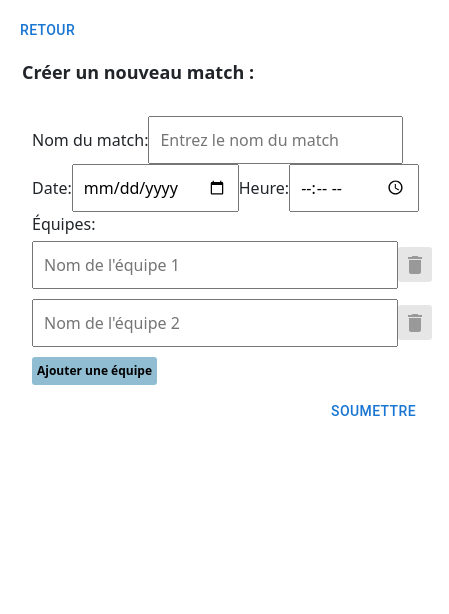
NewGame Component › Soumet le formulaire avec le champ date invalide (date dans le passé)
The width and height of the screenshot is (449, 614).
Type "Test Game" into the field labelled "Nom du match:" at [276, 140], box [148,116,403,164]
Type "2022-01-01" into the date field labelled "Date:" at [155, 188], box [72,164,239,212]
Type "12:00" into the time field labelled "Heure:" at [354, 188], box [289,164,419,212]
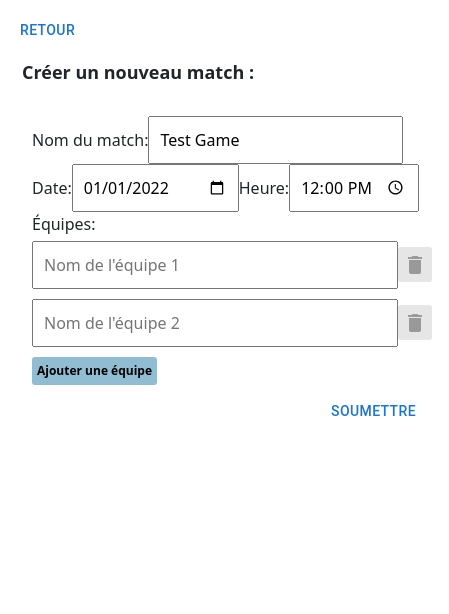
Click the button "Ajouter une équipe" at [94, 370], box [32,356,157,384]
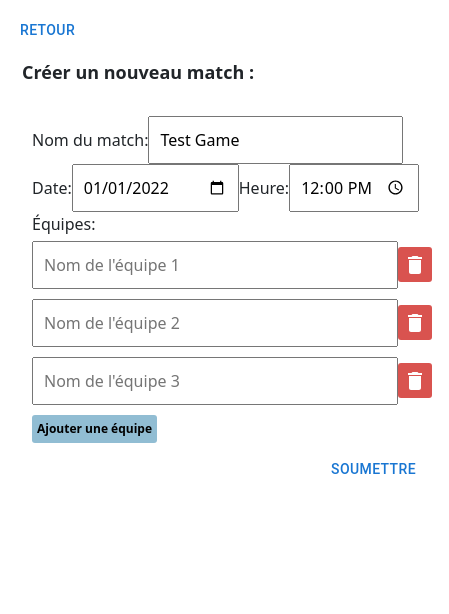
Type "Team A" into the field with placeholder "Nom de l'équipe 1" at [215, 264], box [32,240,398,288]
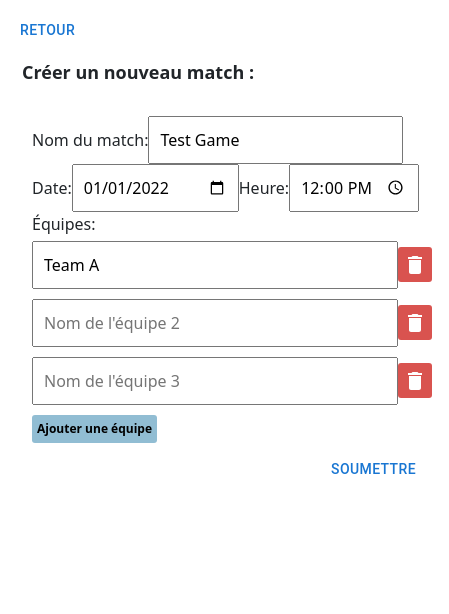
Type "Team B" into the field with placeholder "Nom de l'équipe 2" at [215, 322], box [32,298,398,346]
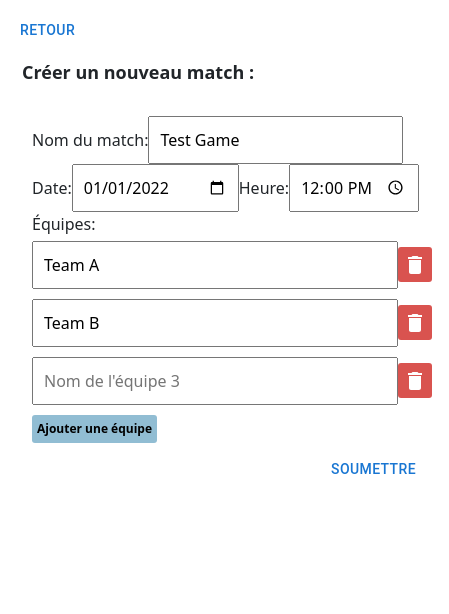
Type "Team C" into the field with placeholder "Nom de l'équipe 3" at [215, 380], box [32,356,398,404]
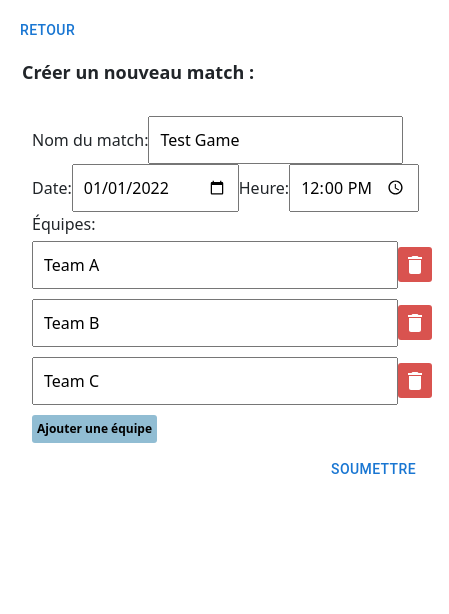
Click the button "Soumettre" at [374, 469], box [323,450,424,487]
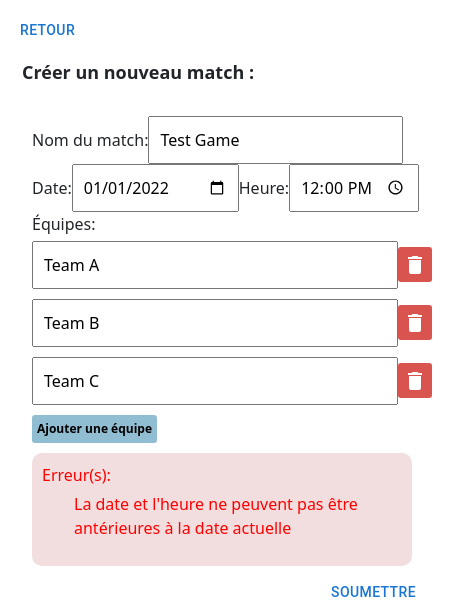
Expected: the list item "La date et l'heure ne peuvent pas être antérieures à la date actuelle" is shown, [74,492,402,540]
